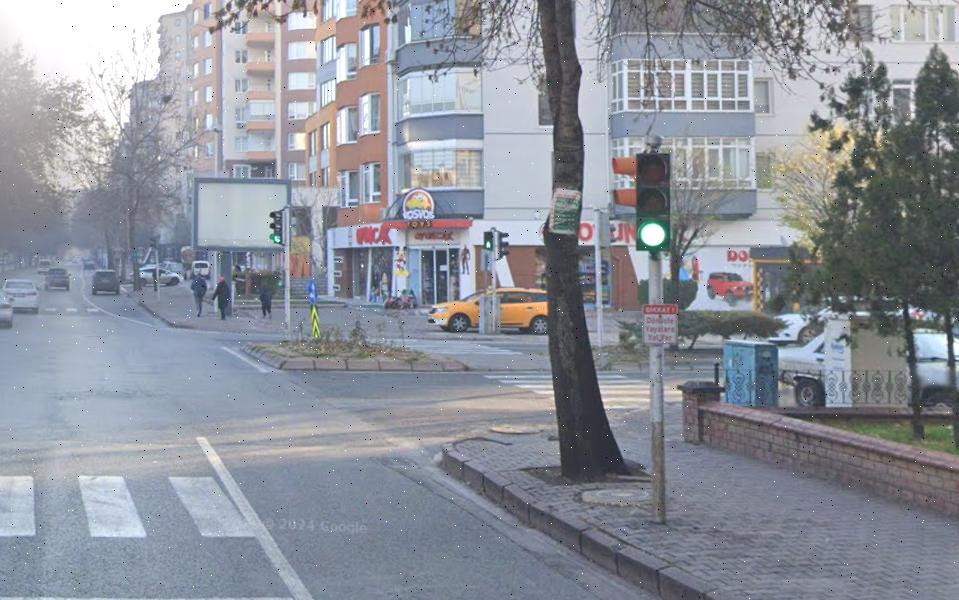greenlight: (631, 148, 672, 251), (268, 207, 285, 245)
